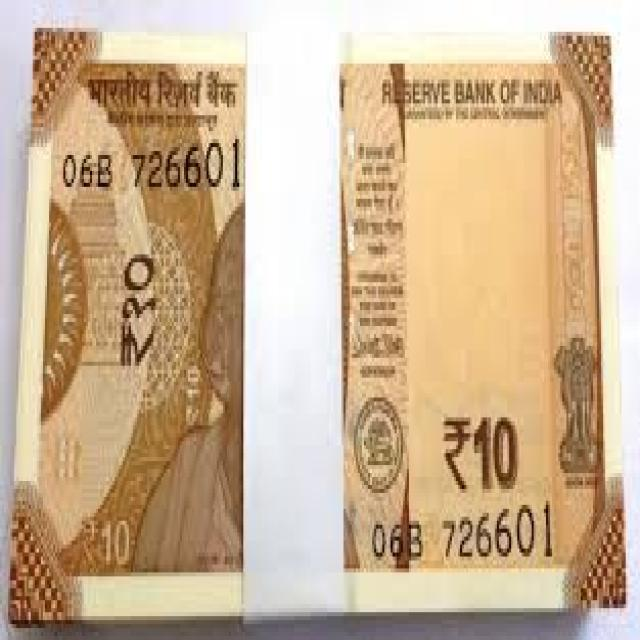10rs: (29, 30, 634, 615)
